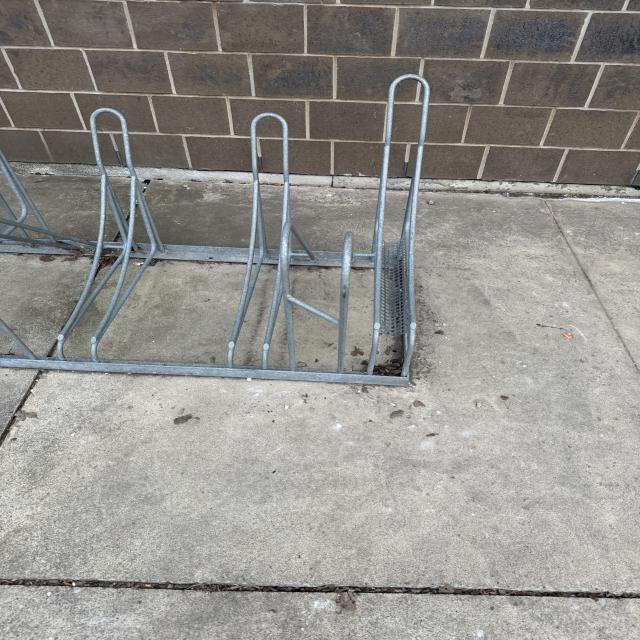Bicycle Rack: (0, 73, 431, 387)
